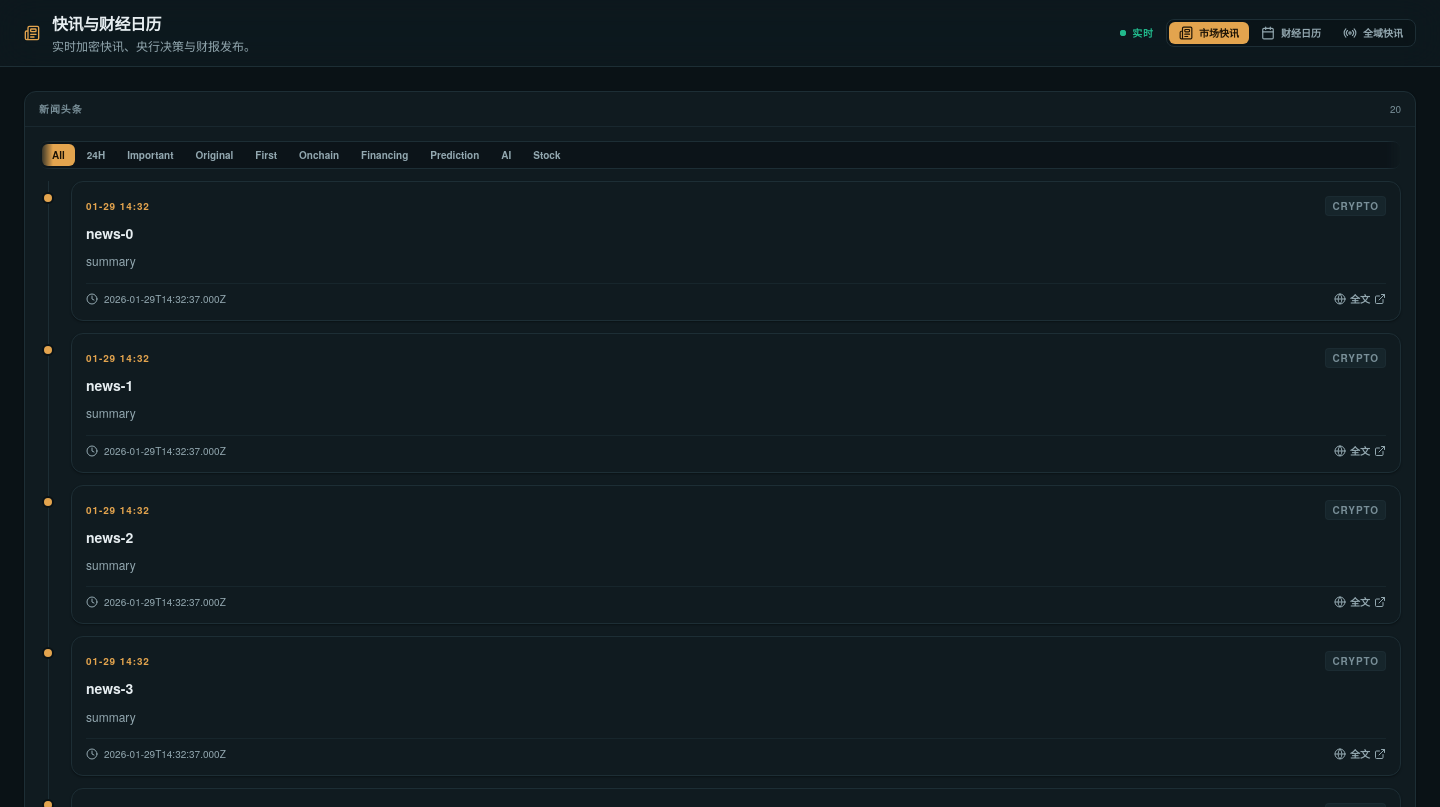
it: NewsCalendarView infinite scroll › resets the list and page when switching category
The width and height of the screenshot is (1440, 807).
Expected: the heading "news-0" is shown, [86,223,133,243]
Click the button "24H".
click(96, 155)  # box [77,144,115,166]
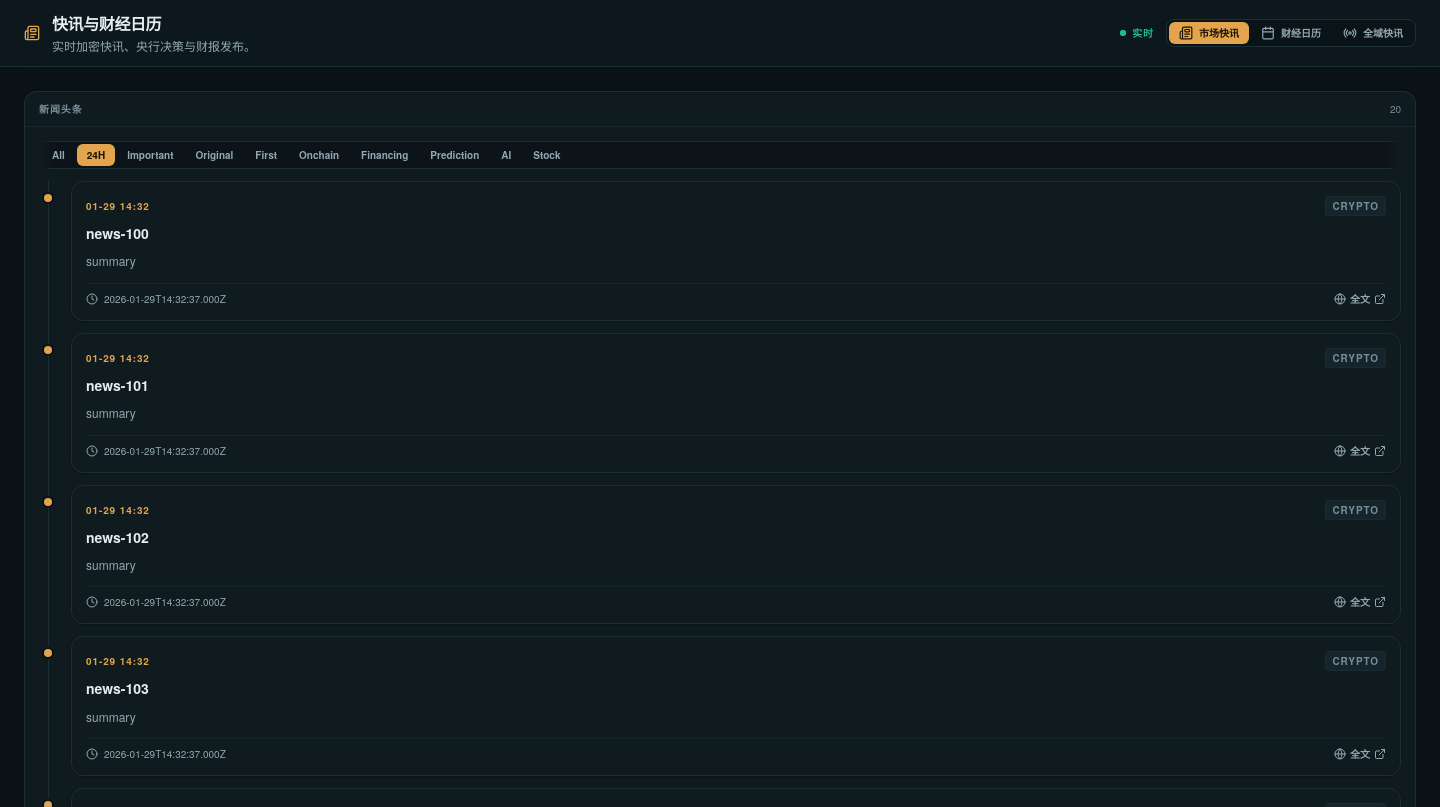
Now the heading "news-100" is shown, box [86,223,149,243]
Now the heading "news-0" is gone
